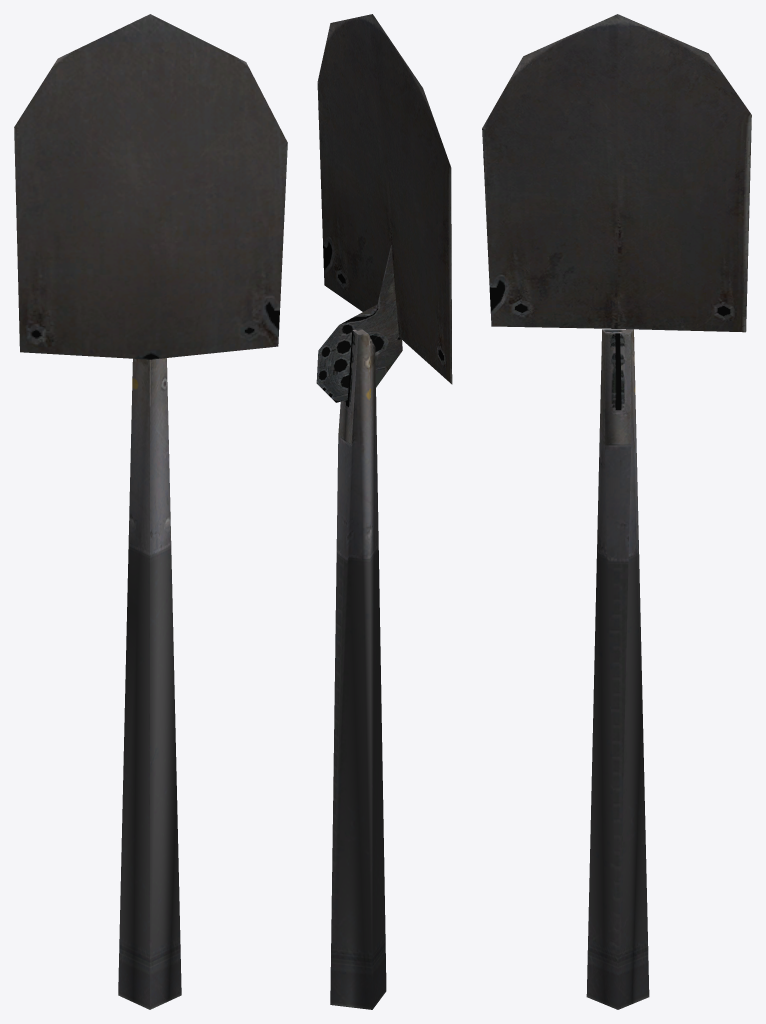
File: Melee_Prop_jq_lod2_LOD_(000223).glb
3 renders of one model, left to right at view 1: azimuth 90°, elevation 25°; view 2: azimuth 210°, elevation 25°; view 3: azimuth 270°, elevation 25°, orthographic.
Parts seen in each view (by area): view 1: jq_lod2; view 2: jq_lod2; view 3: jq_lod2.
Boxes of the visible parts, x1,y1,x2,y2 form: jq_lod2: (14, 14, 287, 1009); jq_lod2: (316, 14, 452, 1009); jq_lod2: (482, 14, 751, 1009).
Bounding box in the file's own units: 0.07 × 0.7619 × 0.191.
Materials: 1 (1 with a texture image).
